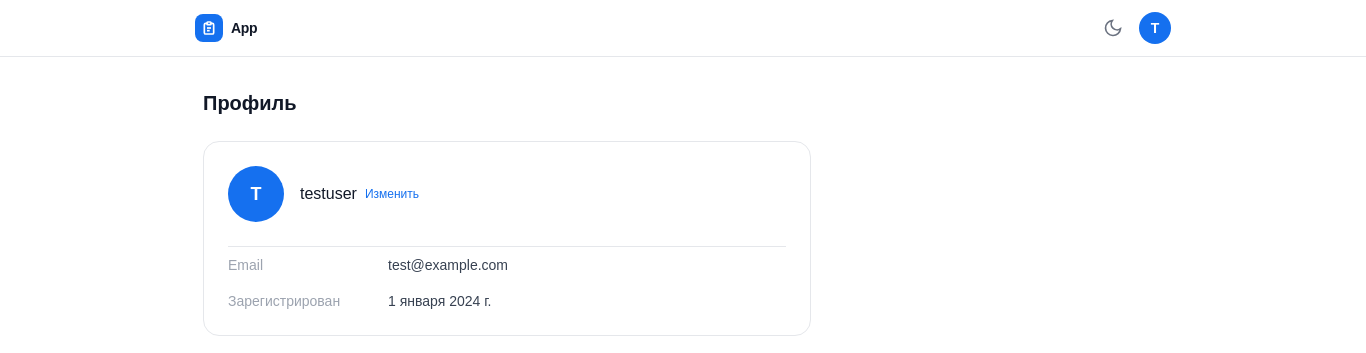
Test: ProfilePage › клик «Изменить» показывает поле ввода с текущим именем
This screenshot has width=1366, height=353.
expect the text "testuser" is shown: met, box [300,182,357,206]
Click the button "Изменить". click: (392, 194)
box: [365,186,419,202]
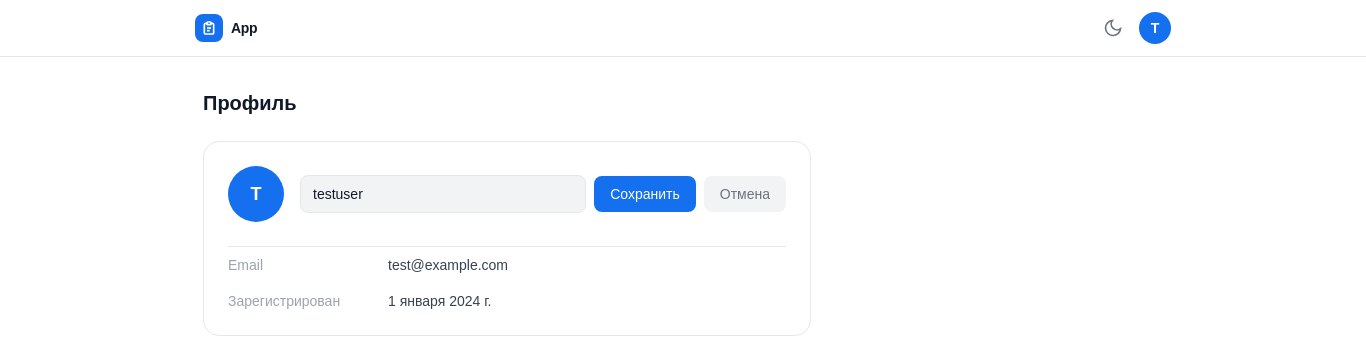
expect the field showing "testuser" is shown: met, box [300,175,586,213]
